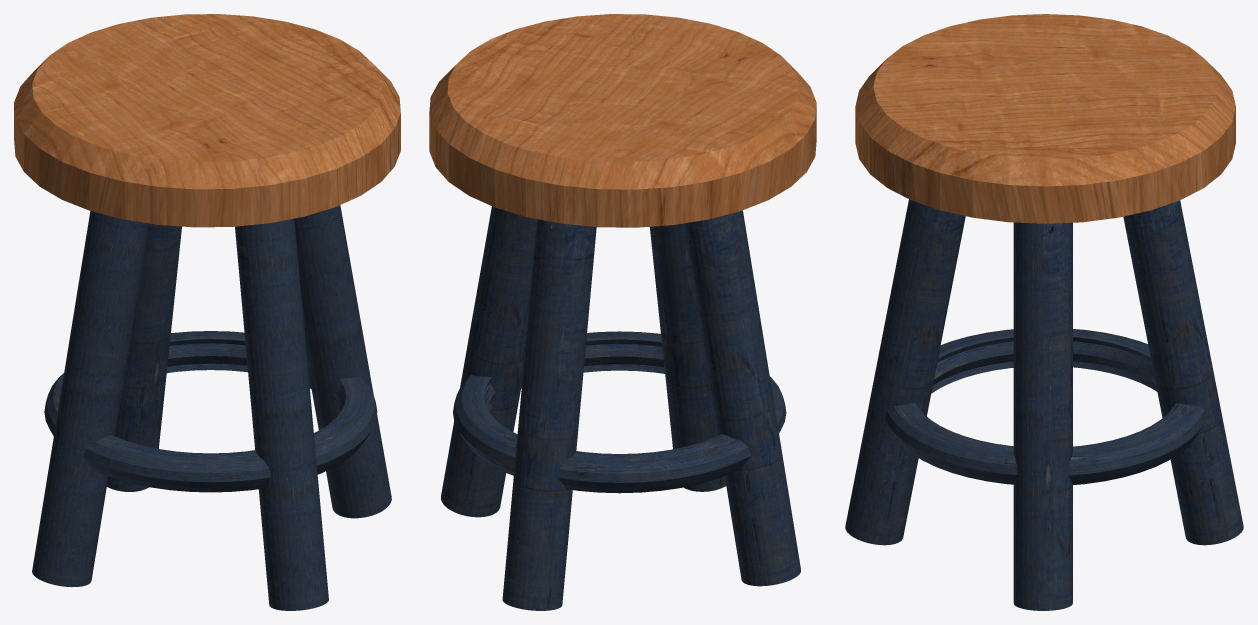
File: stool.fbx
3 renders of one model, left to right at view 1: azimuth 30°, elevation 25°; view 2: azimuth 150°, elevation 25°; view 3: azimuth 270°, elevation 25°, orthographic. The views are drawn at different scales.
Parts seen in each view (by area): view 1: stool; view 2: stool; view 3: stool.
Part boxes in pixels (box(x1,y1,x2,y2)): stool: box(14, 14, 400, 610); stool: box(429, 14, 816, 610); stool: box(845, 14, 1243, 610).
Size of the model in its own units: 37.72 by 46.74 by 37.72.
